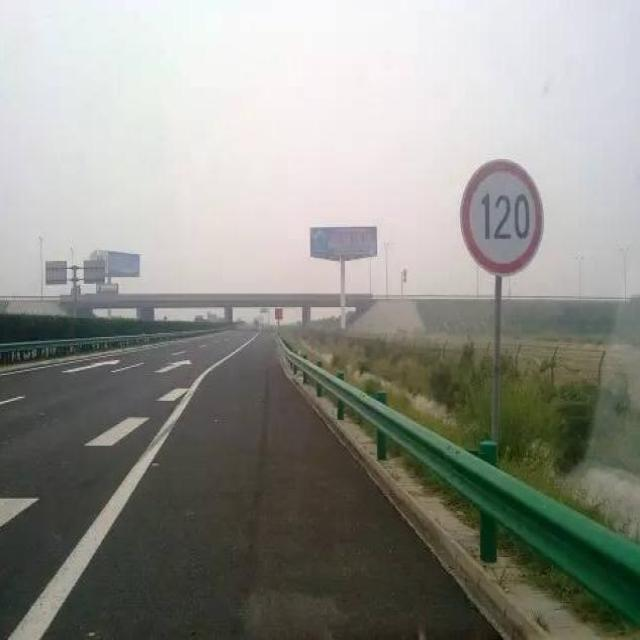speed limit 120: (458, 156, 545, 276)
